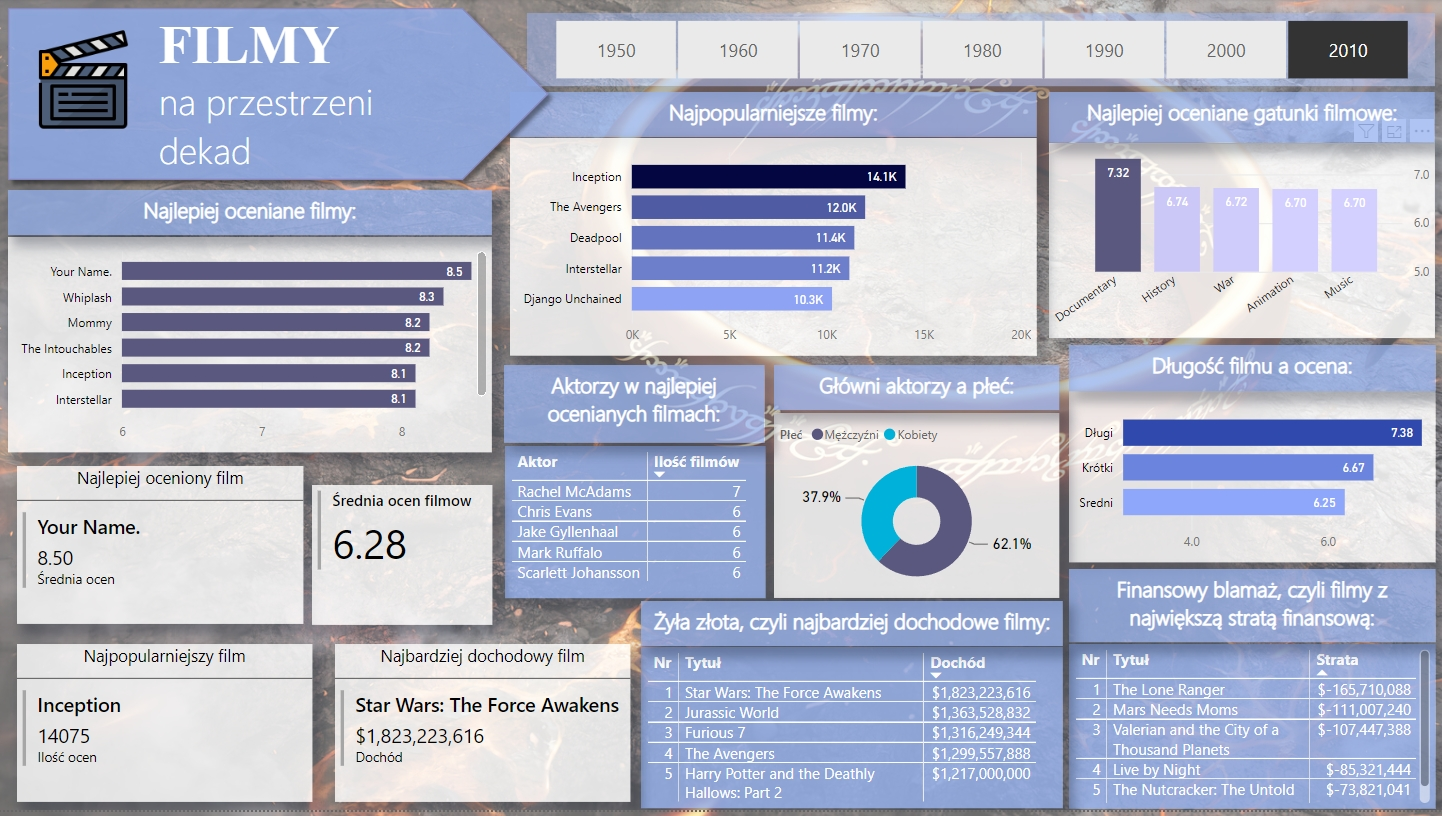

This screenshot's page, from the dashboard's own definition file:
{"tool":"powerbi","page":{"name":"Filmy","canvas":[1280,720],"ordinal":0},"visuals":[{"type":"slicer","fields":{"Values":["Dekady.dekada"]},"box":[468.8,13.6,805.3,65.2],"z":0},{"type":"textbox","box":[454.2,83.6,466.9,39.9],"z":1000},{"type":"shape","box":[0,0,497,170.2],"z":2000},{"type":"barChart","fields":{"Category":["Query1.dlugosc"],"Y":["Query1.srednia"]},"box":[949.3,348.2,324.9,151.7],"z":3000},{"type":"tableEx","fields":{"Values":["Query2.aktor","Query2.ilosc_filmow"]},"box":[449.4,396.8,230.5,135.2],"z":4000},{"type":"donutChart","fields":{"Y":["Query3.procent"],"Category":["Query3.plec"]},"box":[687.7,367.7,252.9,164.4],"z":5000},{"type":"tableEx","fields":{"Values":["Query4.ranking","Query4.tytul","Query4.dochod"]},"box":[949.3,572.9,324.9,145.9],"z":6000},{"type":"tableEx","fields":{"Values":["Query5.ranking","Query5.tytul","Query5.dochod"]},"box":[570,575.8,374.5,143],"z":7000},{"type":"columnChart","fields":{"Y":["Query6.srednia_ocen"],"Category":["Query6.gatunek"]},"box":[931.8,128.4,342.4,173.1],"z":8000},{"type":"barChart","fields":{"Category":["Query7.tytul"],"Y":["Query7.srednia_ocen"]},"box":[8.8,212,428.9,190.6],"z":9000},{"type":"barChart","fields":{"Category":["Query8.tytul"],"Y":["Query8.ilosc_ocen"]},"box":[454.2,124.5,466.9,192.6],"z":10000},{"type":"image","box":[24.3,9.7,103.1,124.5],"z":11000},{"type":"textbox","box":[448.4,325.8,230.5,69.1],"z":12000},{"type":"textbox","box":[949.3,506.7,324.9,65.2],"z":13000},{"type":"textbox","box":[570,535,374.5,39.9],"z":14000},{"type":"textbox","box":[931.8,83.6,342.4,44.7],"z":15000},{"type":"textbox","box":[687.7,325.8,252.9,39.9],"z":16000},{"type":"textbox","box":[949.3,307.4,324.9,40.9],"z":17000},{"type":"textbox","box":[8.8,170.2,428.9,39.9],"z":18000},{"type":"multiRowCard","title":"Najpopularniejszy film","fields":{"Values":["Query8._najpopularniejszy_film","Query8.tytul"]},"box":[16.5,572.9,261.6,140.1],"z":19000},{"type":"multiRowCard","title":"Najbardziej dochodowy film","fields":{"Values":["Query5.dochod","Query5.tytul"]},"box":[298.6,572.9,261.6,140.1],"z":20000},{"type":"multiRowCard","title":"Najlepiej oceniony film","fields":{"Values":["Query7.tytul","Query7.srednia_ocen"]},"box":[16.5,415.3,253.9,140.1],"z":21000},{"type":"multiRowCard","title":"Średnia ocena filmow","fields":{"Values":["Query1.srednia","Query1.dlugosc"]},"box":[278.2,431.9,159.5,123.5],"z":22000},{"type":"textbox","box":[137.1,8.8,281.1,170.2],"z":24000}]}

Visuals, with their boxes in screenshot pixels (x1, y1, x2, y2), scaled from the page's 1280x720 canvas onto the 1442x816 screenshot:
slicer - Dekady.dekada: {"x1": 528, "y1": 15, "x2": 1435, "y2": 89}
textbox: {"x1": 512, "y1": 95, "x2": 1038, "y2": 140}
shape: {"x1": 0, "y1": 0, "x2": 560, "y2": 193}
barChart - Query1.dlugosc x Query1.srednia: {"x1": 1069, "y1": 395, "x2": 1435, "y2": 567}
tableEx - Query2.aktor x Query2.ilosc_filmow: {"x1": 506, "y1": 450, "x2": 766, "y2": 603}
donutChart - Query3.procent x Query3.plec: {"x1": 775, "y1": 417, "x2": 1060, "y2": 603}
tableEx - Query4.ranking x Query4.tytul: {"x1": 1069, "y1": 649, "x2": 1435, "y2": 815}
tableEx - Query5.ranking x Query5.tytul: {"x1": 642, "y1": 653, "x2": 1064, "y2": 815}
columnChart - Query6.srednia_ocen x Query6.gatunek: {"x1": 1050, "y1": 146, "x2": 1435, "y2": 342}
barChart - Query7.tytul x Query7.srednia_ocen: {"x1": 10, "y1": 240, "x2": 493, "y2": 456}
barChart - Query8.tytul x Query8.ilosc_ocen: {"x1": 512, "y1": 141, "x2": 1038, "y2": 359}
image: {"x1": 27, "y1": 11, "x2": 144, "y2": 152}
textbox: {"x1": 505, "y1": 369, "x2": 765, "y2": 448}
textbox: {"x1": 1069, "y1": 574, "x2": 1435, "y2": 648}
textbox: {"x1": 642, "y1": 606, "x2": 1064, "y2": 652}
textbox: {"x1": 1050, "y1": 95, "x2": 1435, "y2": 145}
textbox: {"x1": 775, "y1": 369, "x2": 1060, "y2": 414}
textbox: {"x1": 1069, "y1": 348, "x2": 1435, "y2": 395}
textbox: {"x1": 10, "y1": 193, "x2": 493, "y2": 238}
"Najpopularniejszy film" multiRowCard: {"x1": 19, "y1": 649, "x2": 313, "y2": 808}
"Najbardziej dochodowy film" multiRowCard: {"x1": 336, "y1": 649, "x2": 631, "y2": 808}
"Najlepiej oceniony film" multiRowCard: {"x1": 19, "y1": 471, "x2": 305, "y2": 629}
"Średnia ocena filmow" multiRowCard: {"x1": 313, "y1": 489, "x2": 493, "y2": 629}
textbox: {"x1": 154, "y1": 10, "x2": 471, "y2": 203}
